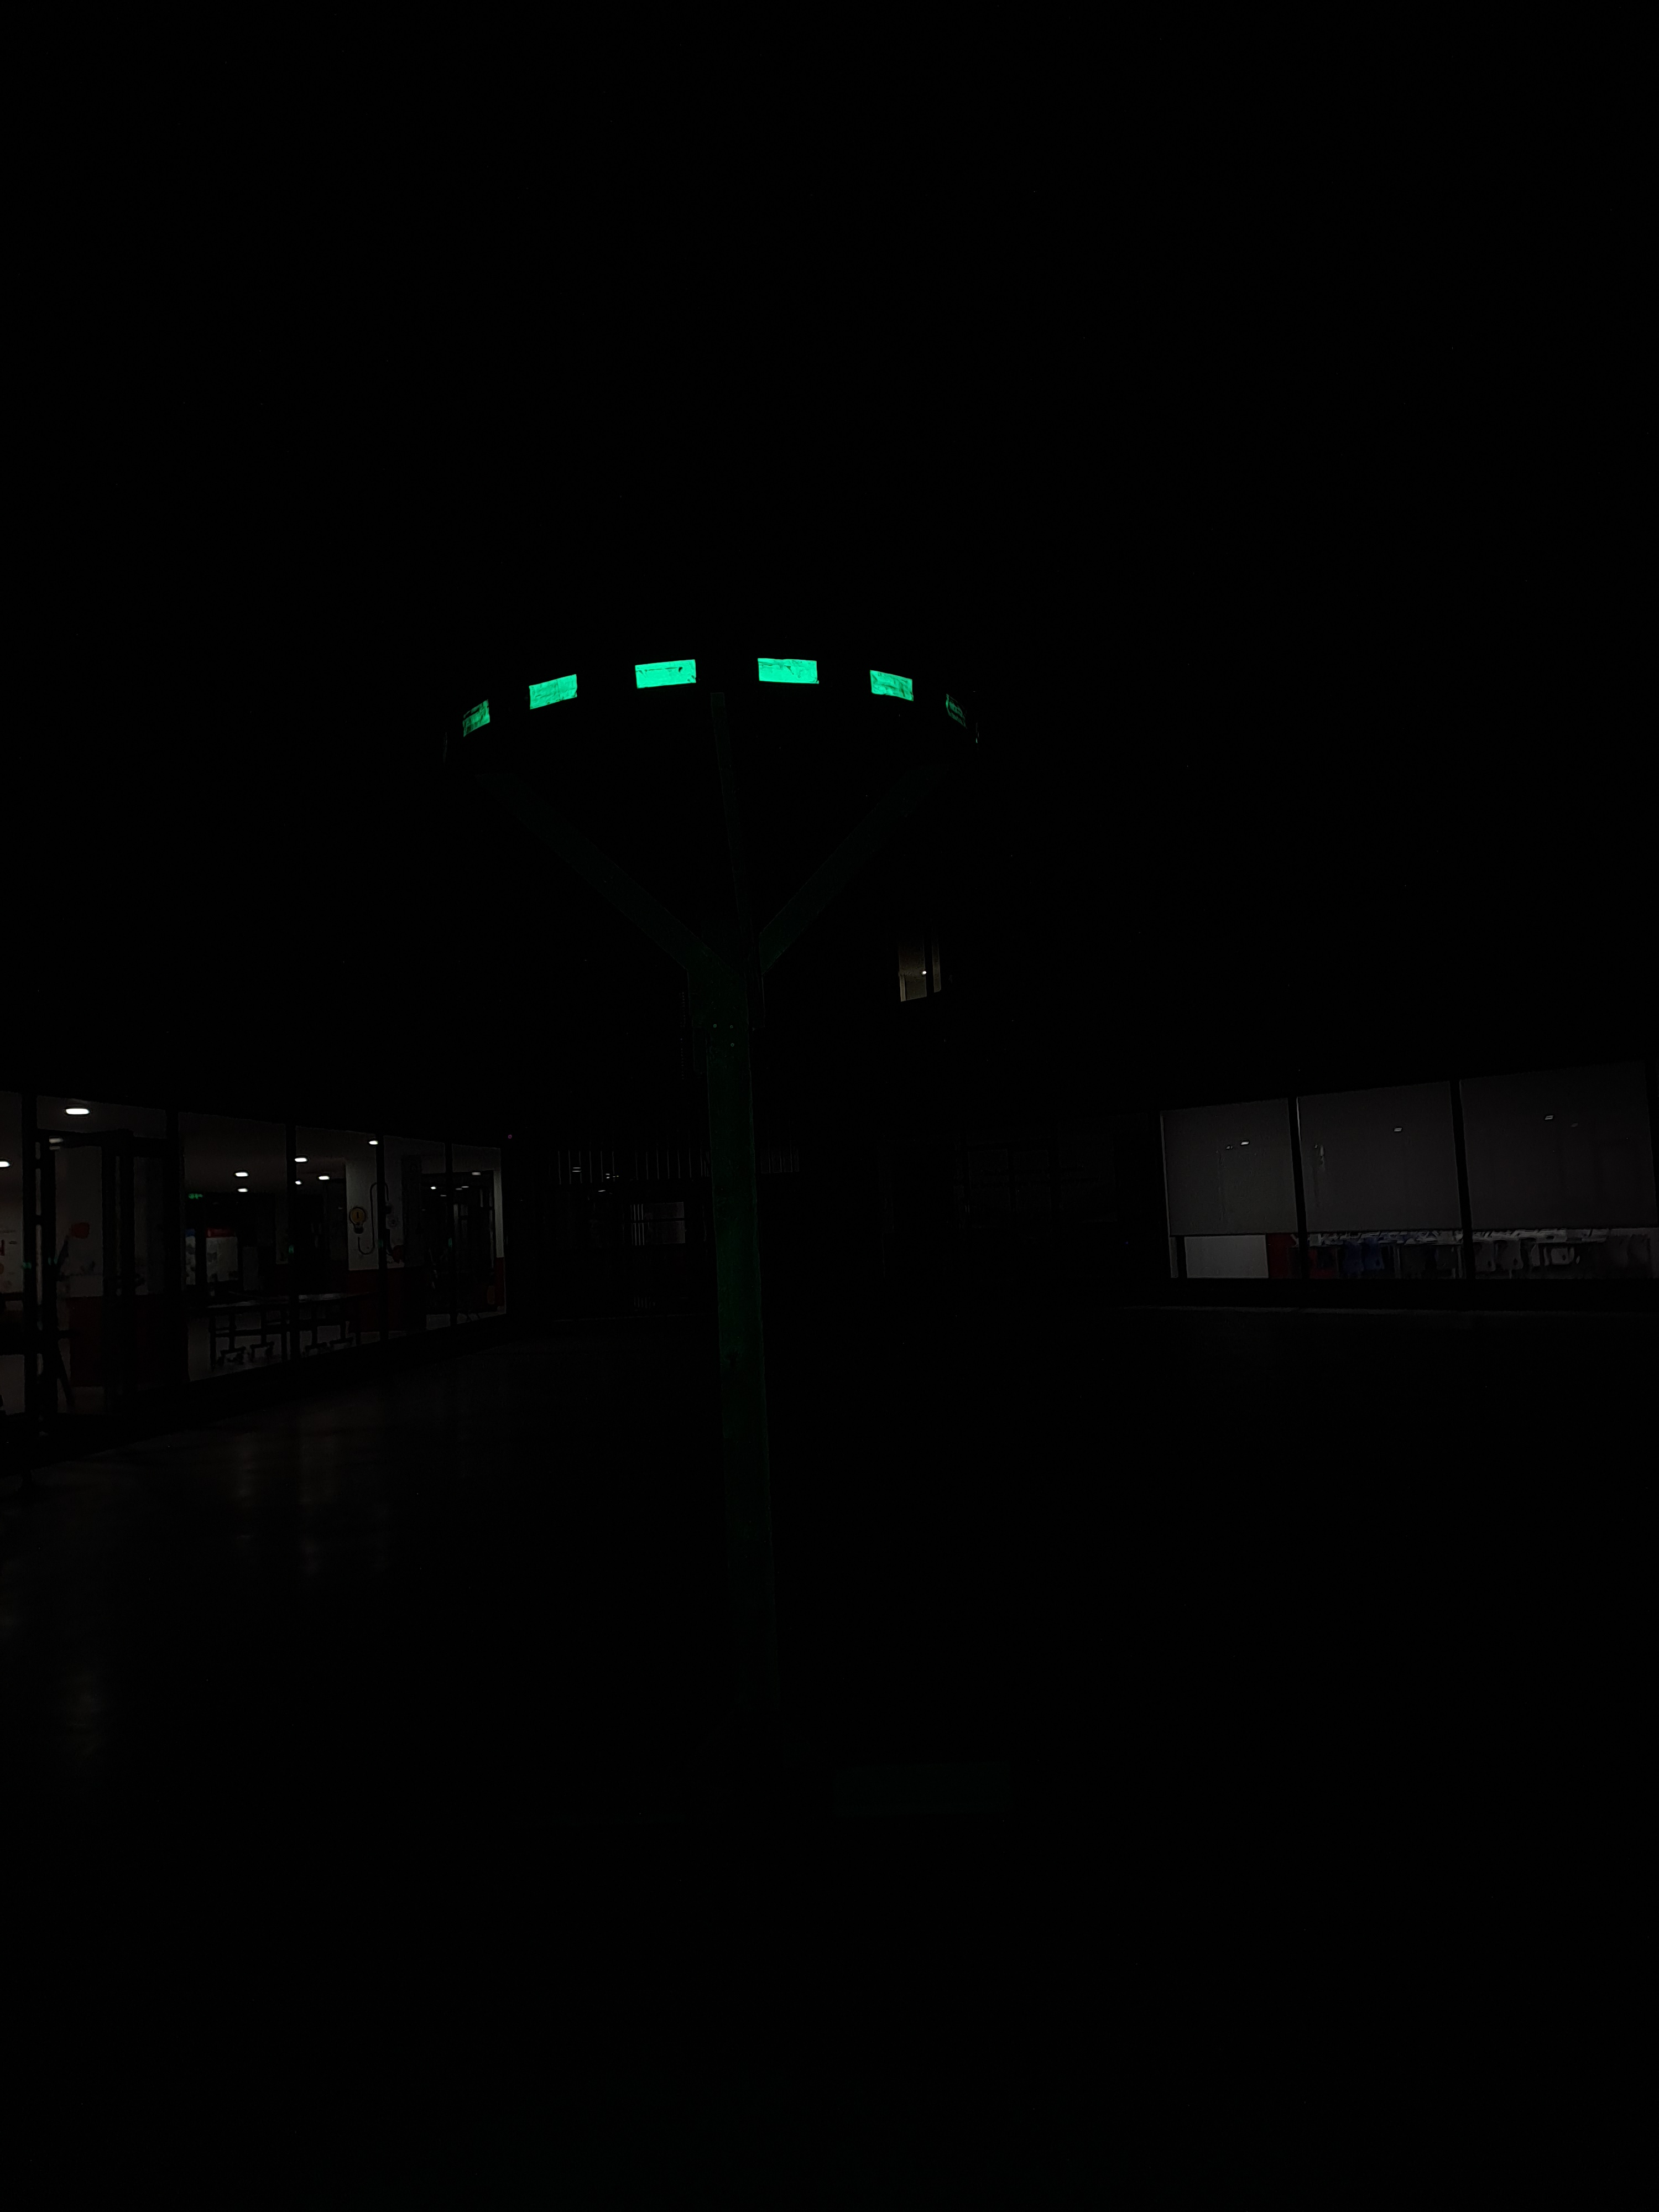hoop: (451, 653, 920, 744)
